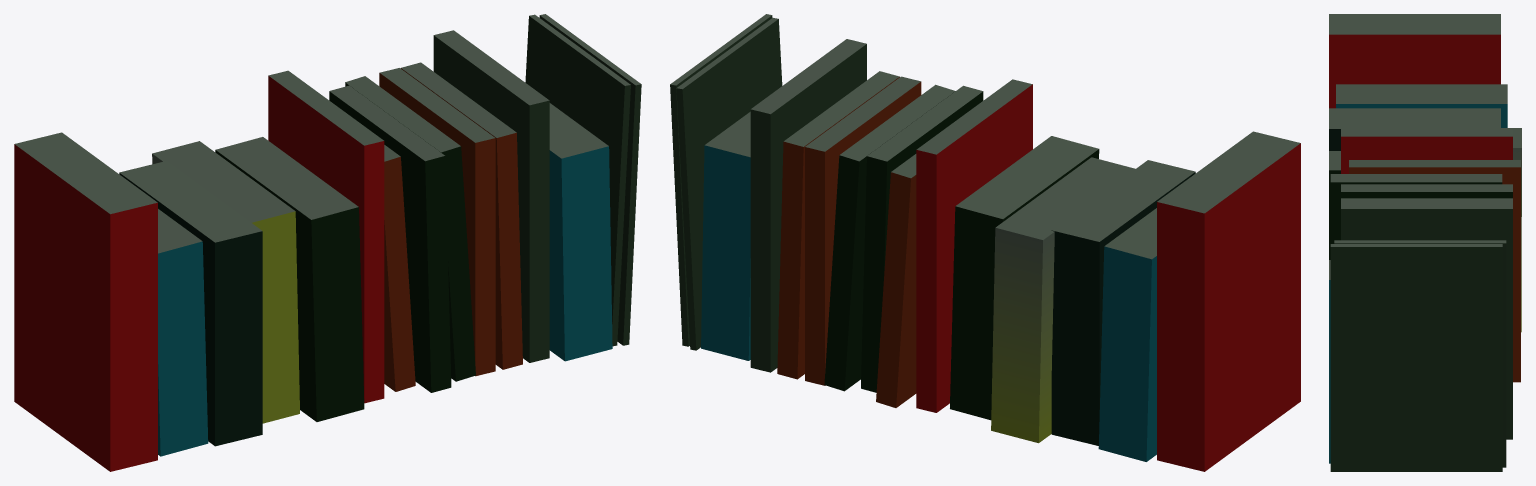
The model's file is BookC.fbx.
The picture shows the model from 3 angles, left to right: view 1: azimuth 30°, elevation 25°; view 2: azimuth 150°, elevation 25°; view 3: azimuth 270°, elevation 25°; orthographic projection. The views are drawn at different scales.
Parts seen in each view (by area): view 1: BookC; view 2: BookC; view 3: BookC.
Part boxes in pixels (x1,y1,x2,y2): BookC: [14, 14, 641, 471]; BookC: [670, 14, 1300, 471]; BookC: [1329, 14, 1521, 471].
Bounding box in the file's own units: 0.032 × 0.0149 × 0.0112.
